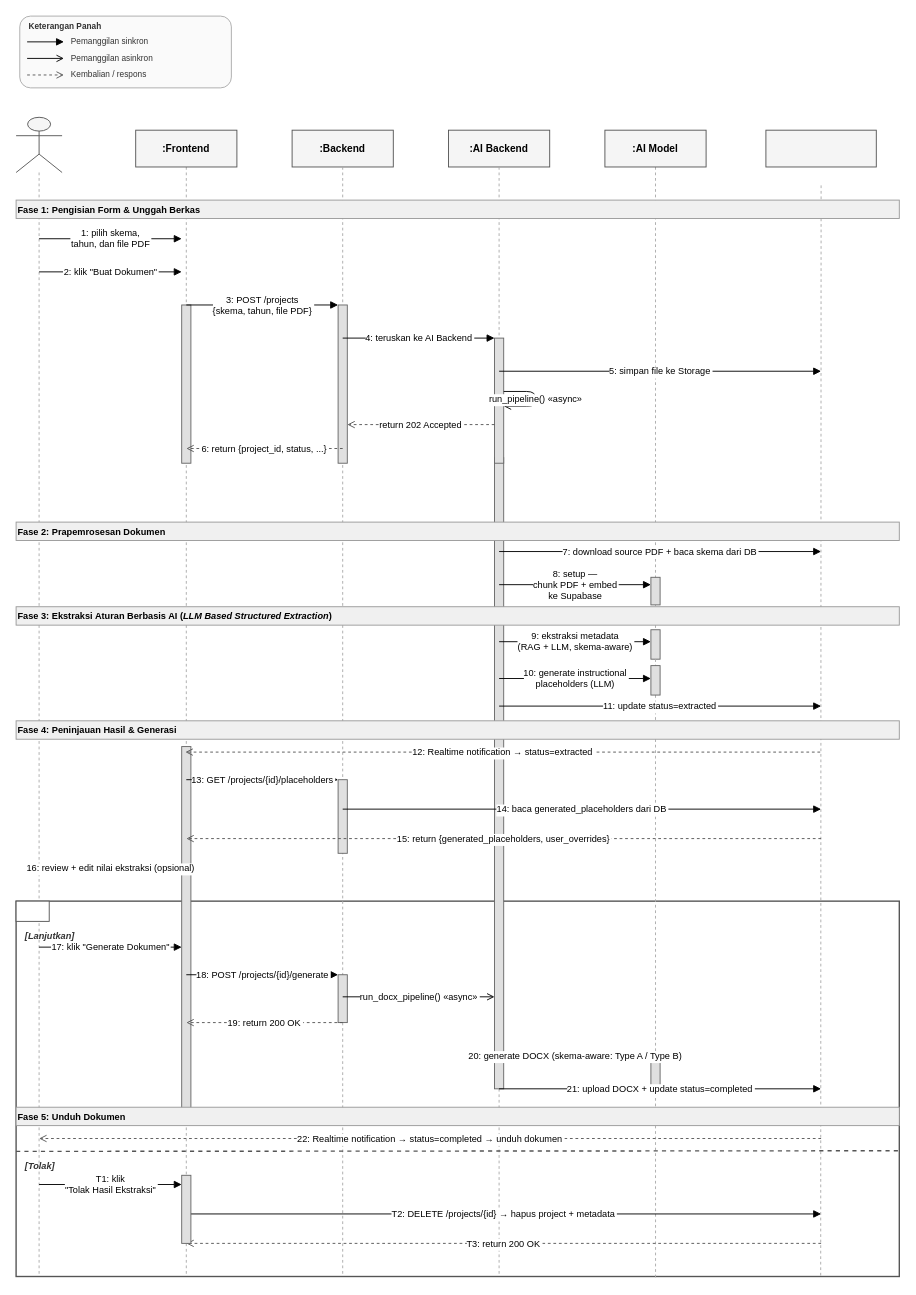
Some shapes in this 916 by 1295 pixel diagram are drawn without their labels. The shapes that lost their labels are listed below. From the top down, each one's centre as x and y in pixels, then its label:
At pixel 38 144: "Admin".
At pixel 820 148: ":Supabase".
At pixel 32 910: "alt".
